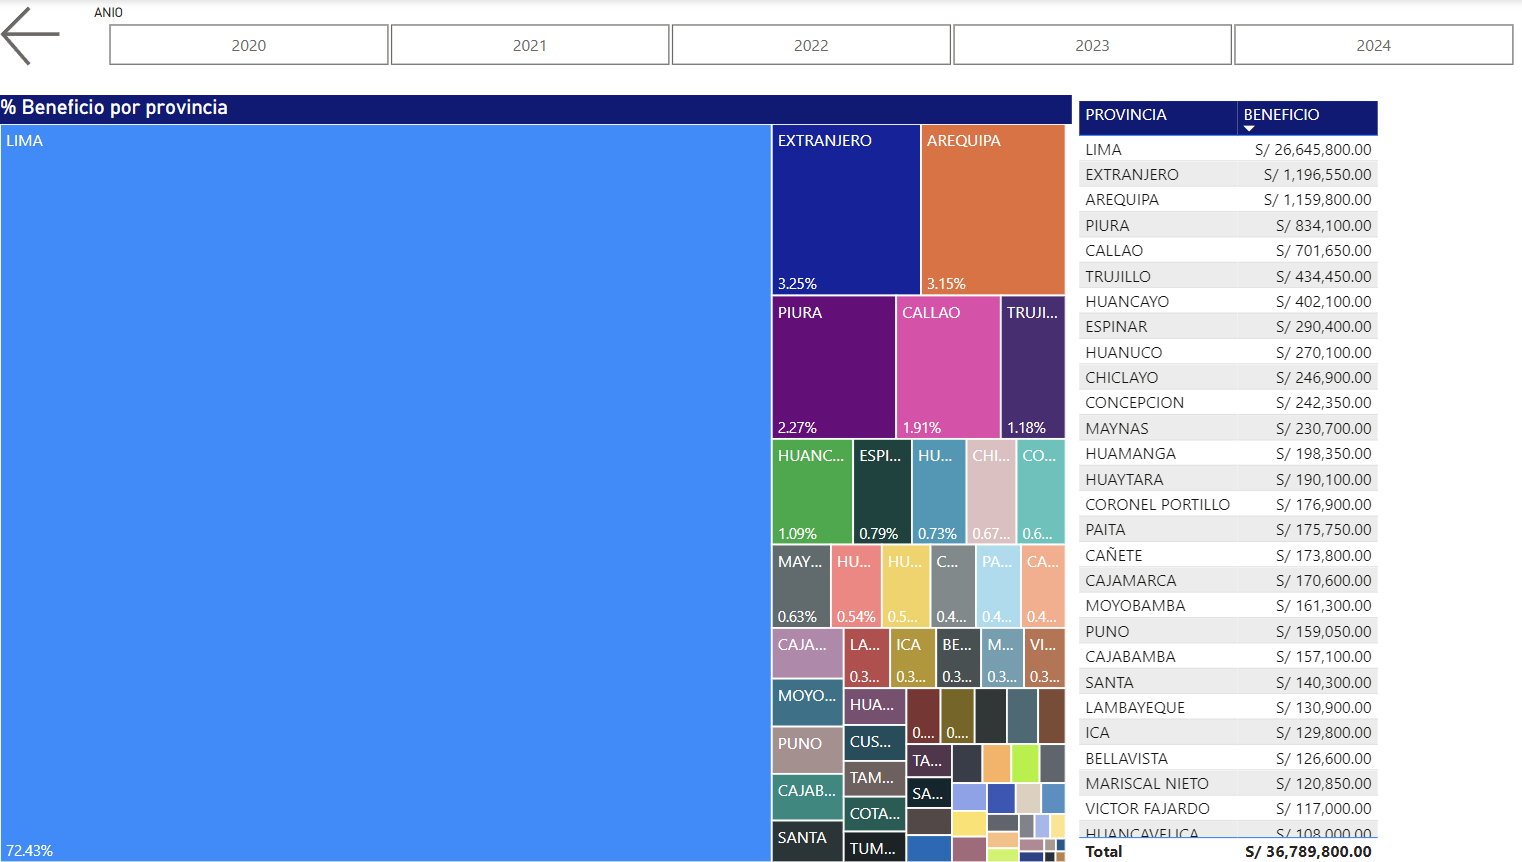

The page's visual inventory and layout, read from the dashboard file:
{"tool":"powerbi","page":{"name":"Provincias","canvas":[1280,720],"ordinal":2},"visuals":[{"type":"treemap","title":"% Beneficio por provincia","fields":{"Values":["Sum(Data_DeportistasBeneficiadosPAD.MONTO_BENEFICIO)"],"Group":["Data_DeportistasBeneficiadosPAD.PROVINCIA"]},"box":[0,79.5,891.8,640],"z":0},{"type":"slicer","fields":{"Values":["Data_DeportistasBeneficiadosPAD.ANIO"]},"box":[69.6,0,1211.9,61.5],"z":1000},{"type":"actionButton","box":[0,0,69.6,61.5],"z":2000},{"type":"tableEx","fields":{"Values":["Data_DeportistasBeneficiadosPAD.PROVINCIA","Sum(Data_DeportistasBeneficiadosPAD.MONTO_BENEFICIO)"]},"box":[891.8,79.5,388.2,640],"z":3000}]}

Visuals, with their boxes in screenshot pixels (x1, y1, x2, y2), scaled from the page's 1280x720 canvas onto the 1522x862 screenshot:
"% Beneficio por provincia" treemap: detection(0, 95, 1060, 861)
slicer - Data_DeportistasBeneficiadosPAD.ANIO: detection(83, 0, 1521, 74)
actionButton: detection(0, 0, 83, 74)
tableEx - Data_DeportistasBeneficiadosPAD.PROVINCIA x Sum(Data_DeportistasBeneficiadosPAD.MONTO_BENEFICIO): detection(1060, 95, 1521, 861)
